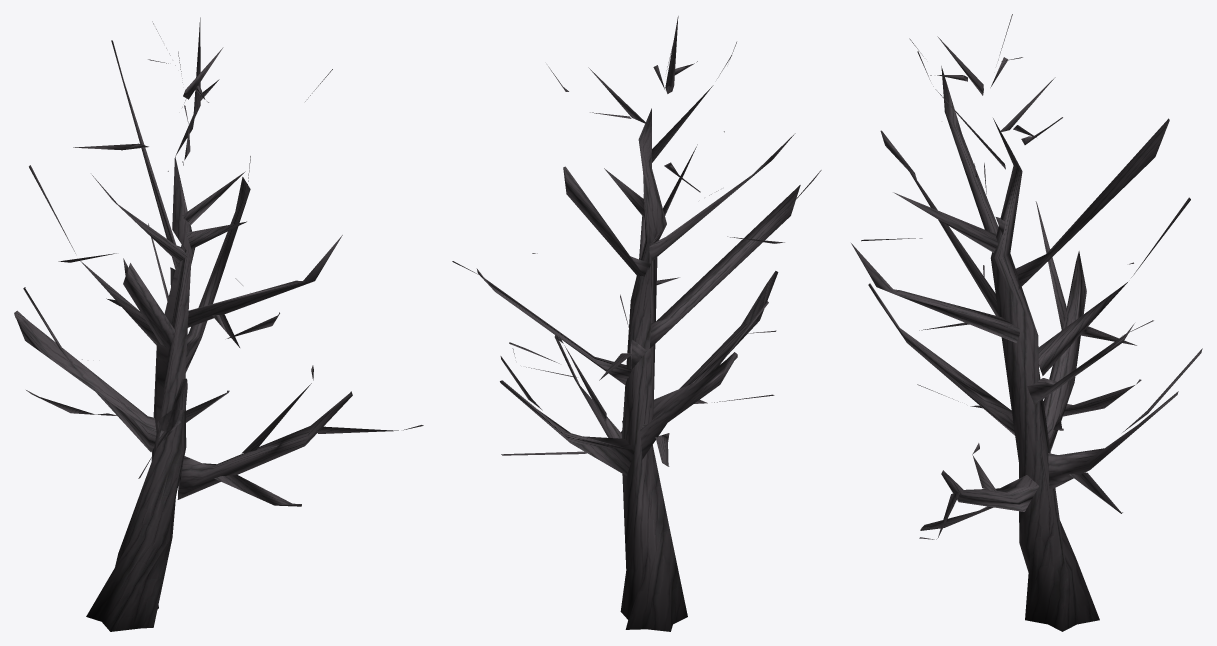
The model's file is dead_2.glb.
The picture shows the model from 3 angles, left to right: view 1: azimuth 30°, elevation 25°; view 2: azimuth 150°, elevation 25°; view 3: azimuth 270°, elevation 25°; orthographic projection. The views are drawn at different scales.
Parts seen in each view (by area): view 1: DeadTree_2; view 2: DeadTree_2; view 3: DeadTree_2.
Part boxes in pixels (x1,y1,x2,y2): DeadTree_2: (14,17,423,631); DeadTree_2: (452,16,821,631); DeadTree_2: (851,14,1202,631).
Bounding box in the file's own units: 6.63 × 11.39 × 6.04.
Materials: 1 (1 with a texture image).
